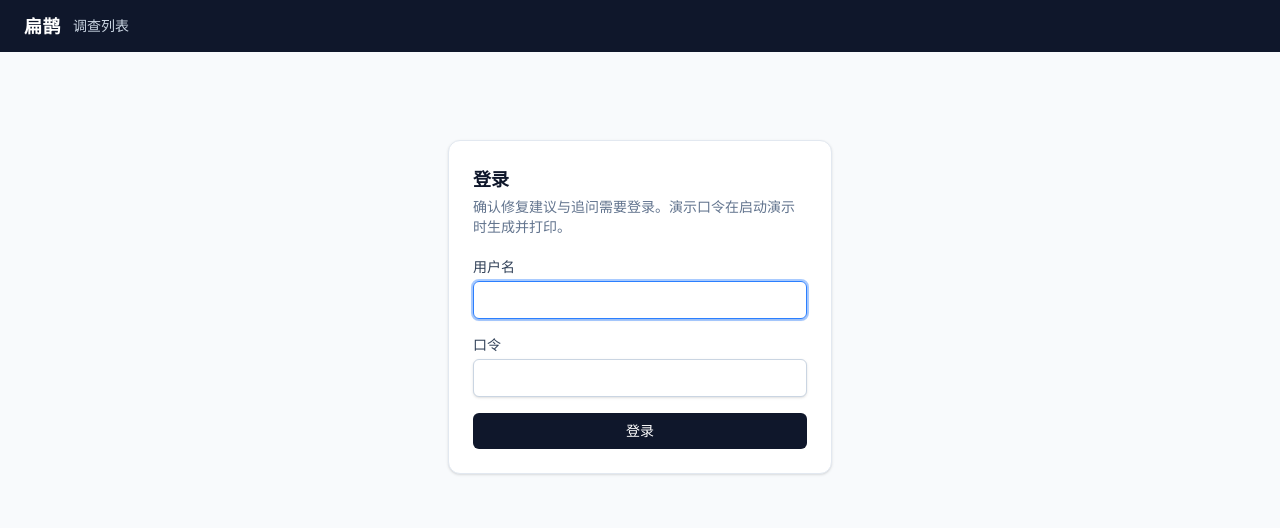
Scenario: login › tells a wrong password without telling which field
Type "demo" into the field labelled "用户名" at (640, 300), box [473, 281, 807, 319]
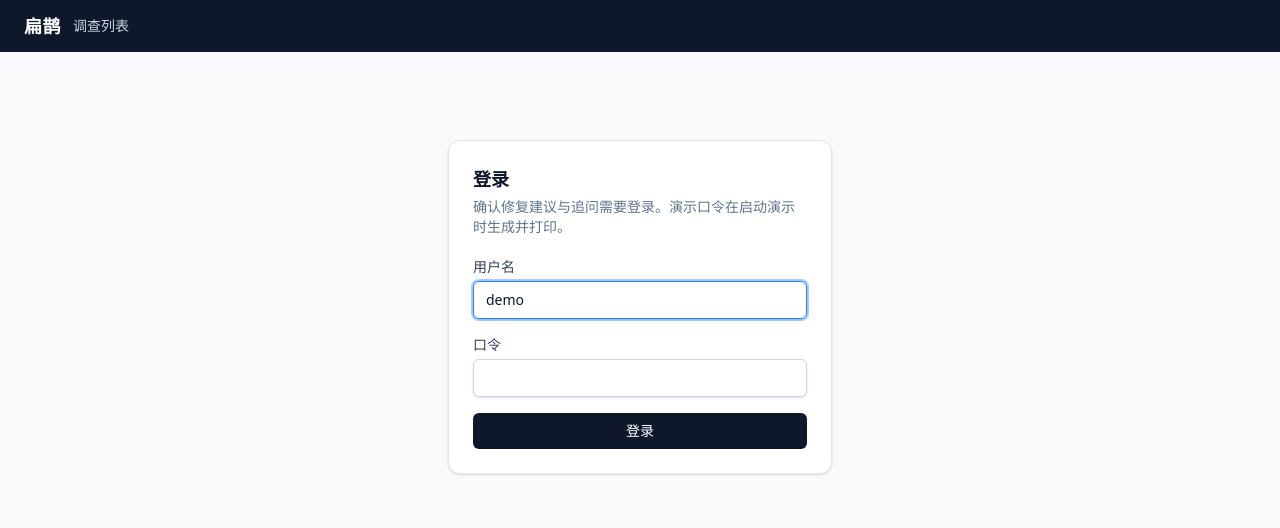
Type "wrong" into the password field labelled "口令" at (640, 378), box [473, 359, 807, 397]
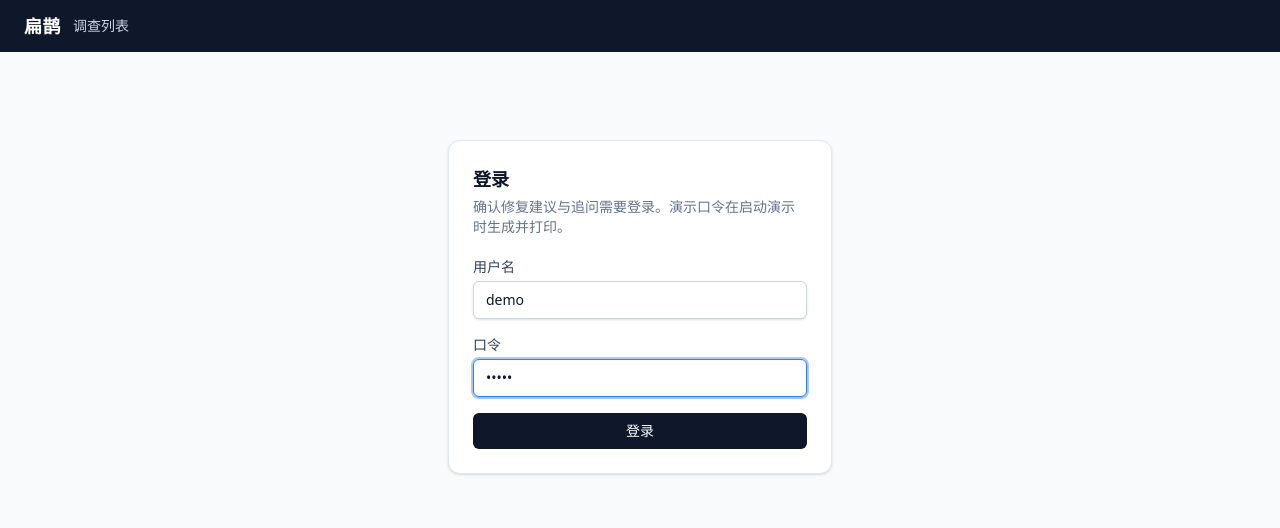
Click the button "登录" at (640, 431), box [473, 413, 807, 449]
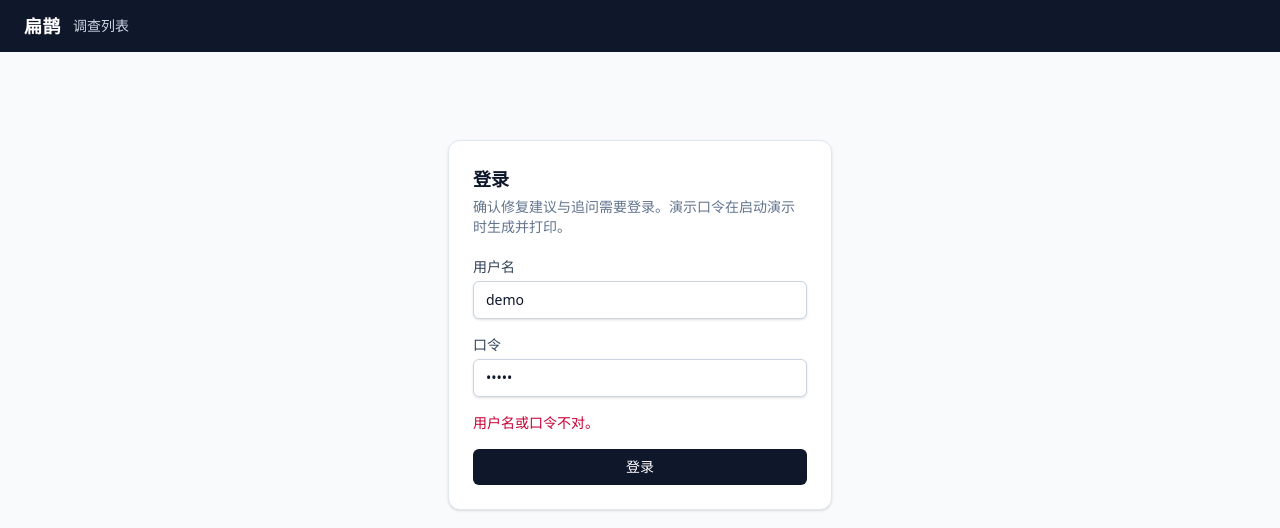
Now the message reads "用户名或口令不对。", box [473, 413, 599, 432]
